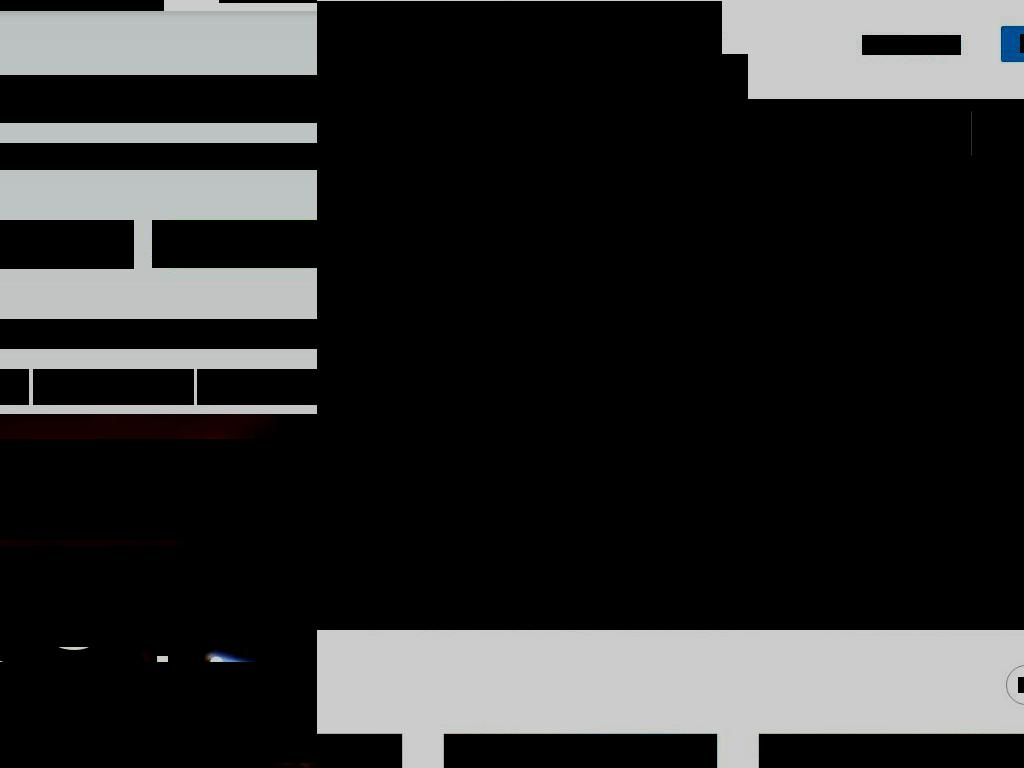button: (317, 170, 1024, 414), (317, 414, 1024, 630), (444, 734, 717, 768), (759, 734, 1024, 768), (152, 220, 317, 268), (33, 369, 194, 405), (672, 468, 799, 508), (819, 468, 940, 508), (197, 369, 317, 405), (448, 118, 546, 143), (364, 118, 449, 143), (545, 118, 628, 143), (627, 118, 708, 143), (862, 35, 961, 55), (0, 0, 164, 11)
field: (0, 220, 134, 269)
heading: (0, 75, 317, 123), (317, 350, 604, 387), (0, 319, 317, 349), (344, 66, 556, 90), (317, 66, 345, 90)
image: (317, 414, 1024, 630), (317, 54, 748, 124), (444, 734, 717, 768), (759, 734, 1024, 768), (317, 118, 354, 148), (1018, 677, 1024, 693)
link: (345, 43, 436, 62)
text: (0, 439, 317, 540), (0, 546, 317, 647), (0, 662, 317, 763), (317, 1, 722, 62), (317, 43, 715, 83), (317, 492, 1024, 510), (317, 432, 528, 480), (317, 414, 1024, 428), (0, 143, 317, 170), (317, 89, 716, 109), (672, 414, 1024, 436), (0, 0, 164, 11), (455, 118, 525, 143), (371, 118, 428, 143), (552, 118, 607, 143), (634, 118, 687, 143), (987, 121, 1011, 145)
